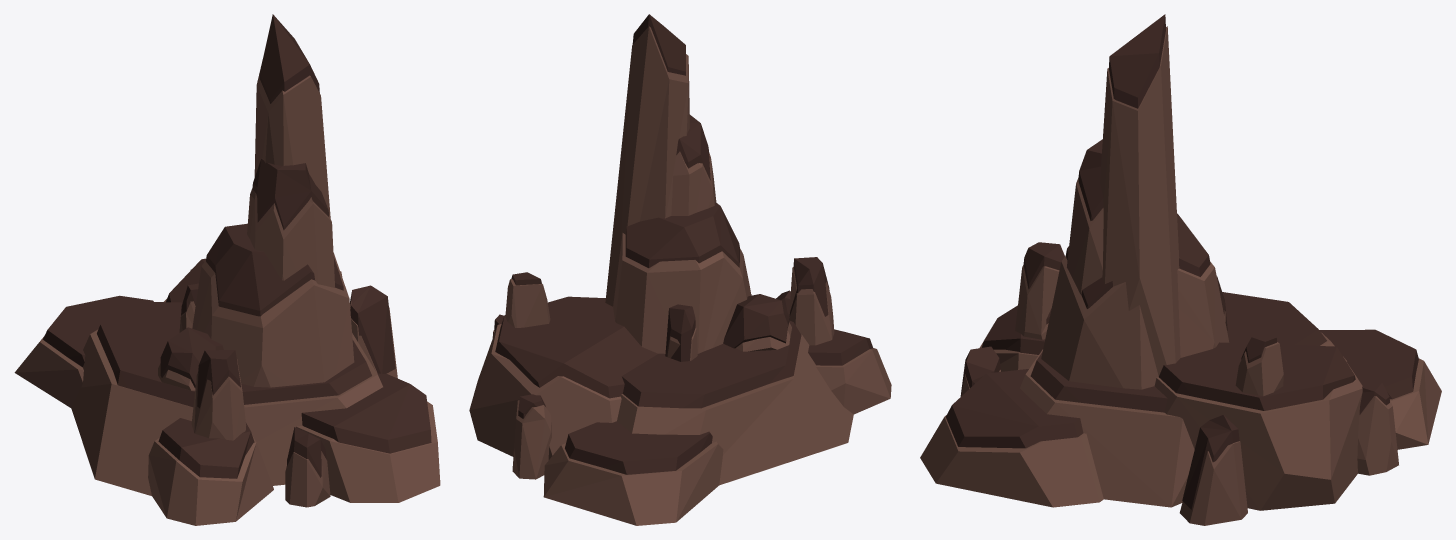
The model's file is Brown_rock_009.fbx.
3 views of the same model, side by side, from view 1: azimuth 30°, elevation 25°; view 2: azimuth 150°, elevation 25°; view 3: azimuth 270°, elevation 25° (orthographic). The views are drawn at different scales.
Parts seen in each view (by area): view 1: Brown_rock_009; view 2: Brown_rock_009; view 3: Brown_rock_009.
Boxes of the visible parts, <box> form: Brown_rock_009: <box>14,14,440,525</box>; Brown_rock_009: <box>469,14,891,525</box>; Brown_rock_009: <box>920,14,1441,525</box>.
Size of the model in its own units: 1651 by 2083 by 1929.
